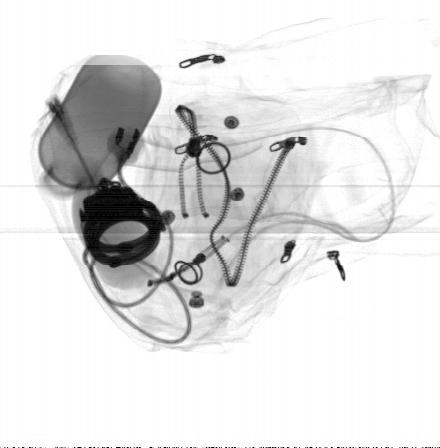HandCuffs: (82, 175, 168, 268)
